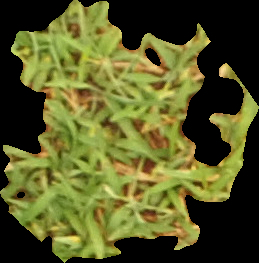grass: (1, 1, 257, 261)
